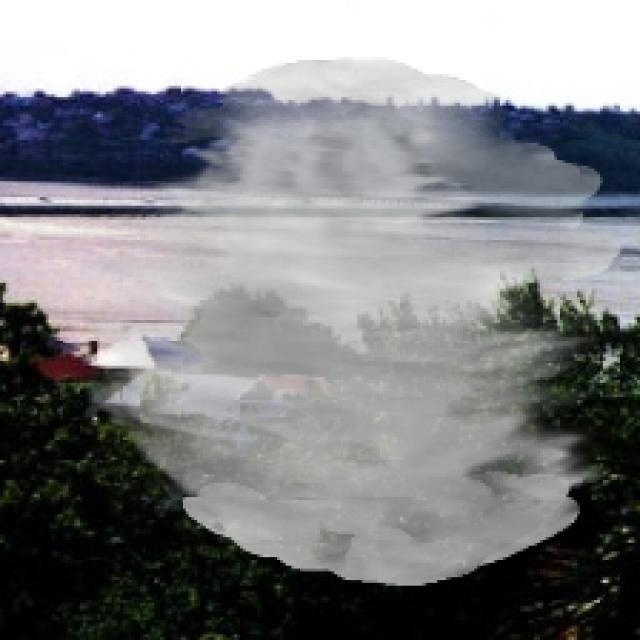Smoke: (83, 57, 623, 586)
